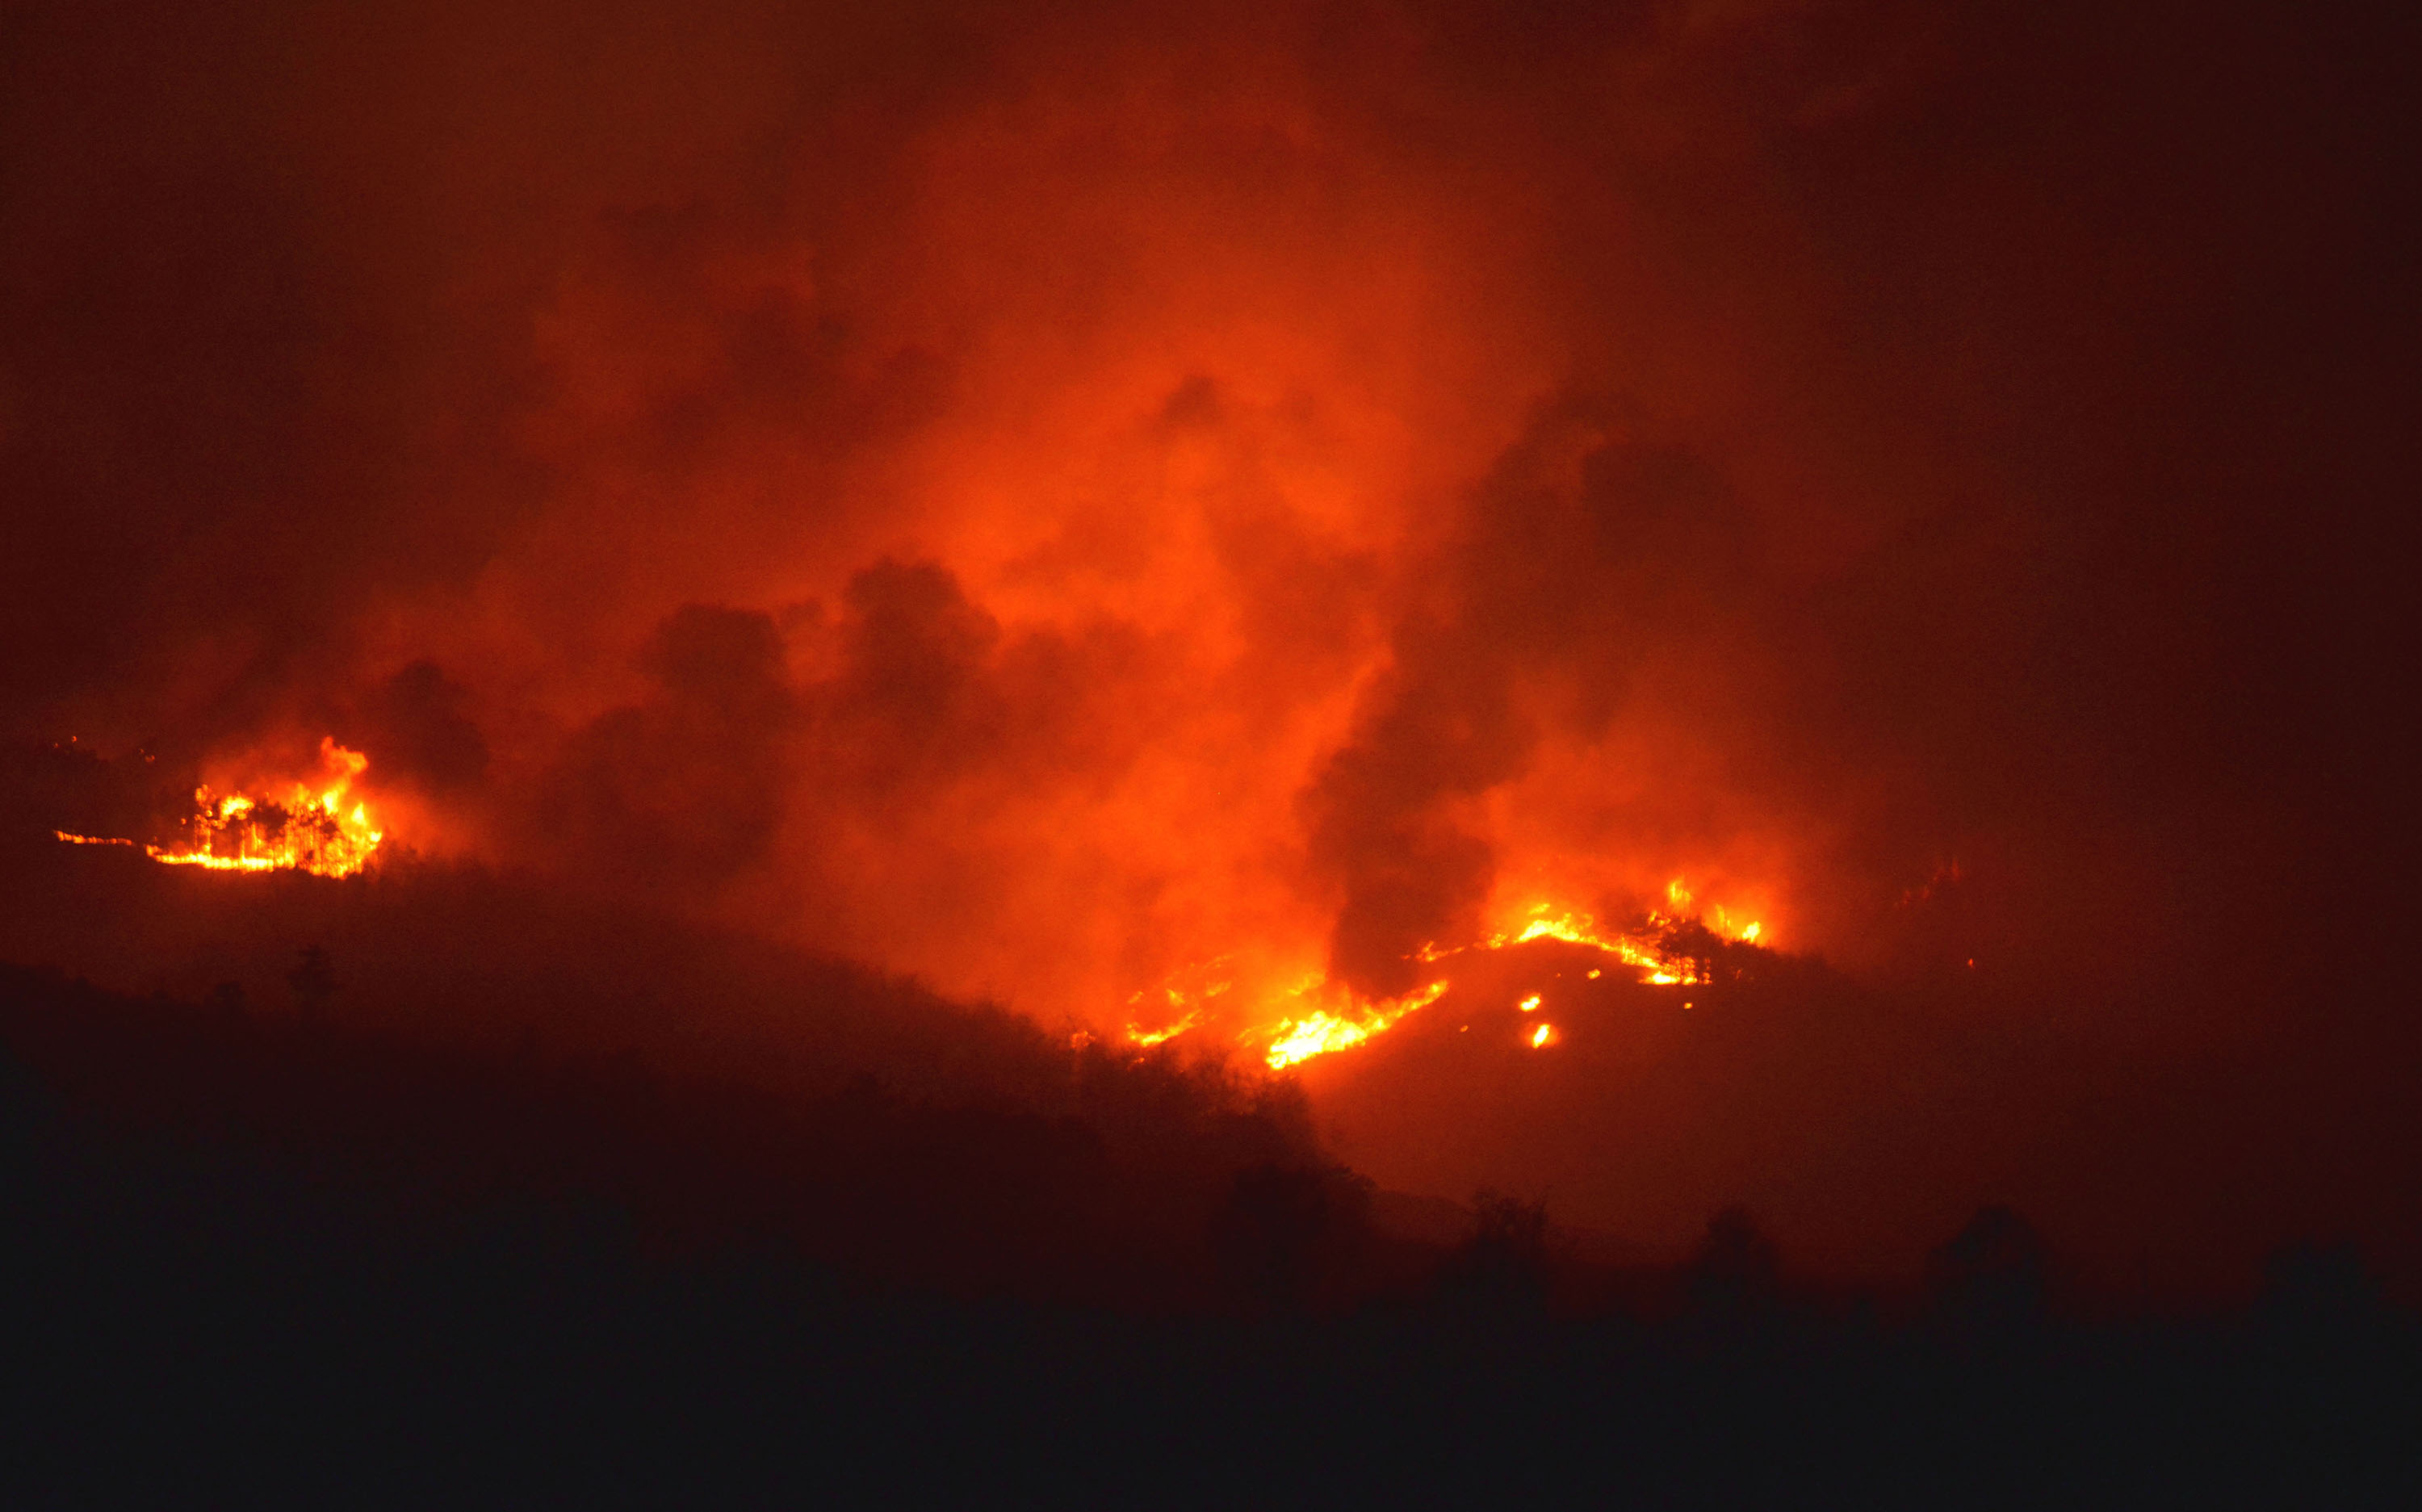fire: (134, 681, 434, 906), (1490, 847, 1813, 998), (1280, 981, 1466, 1068)
